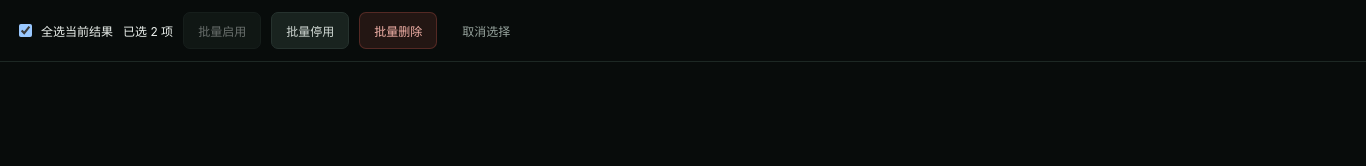
it: 包批量操作 › 停止等待后不提交当前条目或后续条目
Click the button "批量停用" at [310, 30], box [271,12,349,49]
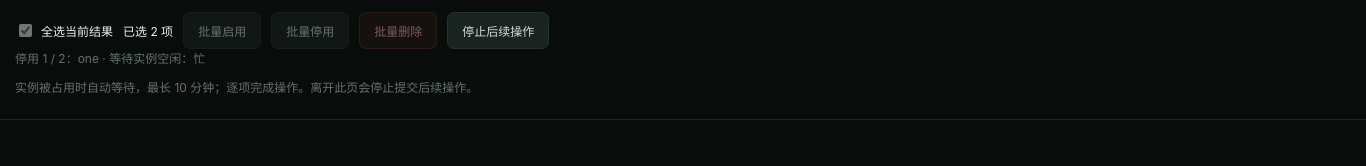
Expected: the text "停用 1 / 2：one · 等待实例空闲：忙" is shown, [15,51,205,66]
Click the button "停止后续操作" at [498, 30], box [447,12,549,49]
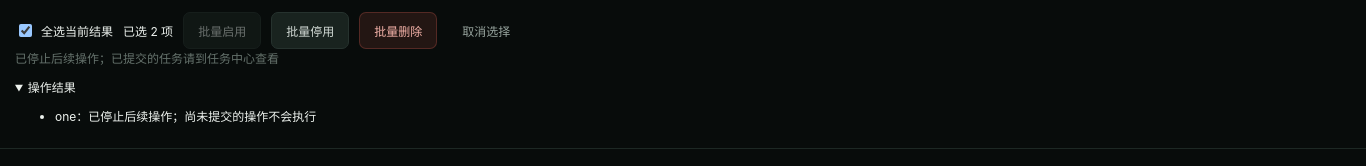
Expected: the text "已停止后续操作；已提交的任务请到任务中心查看" is shown, [15,51,279,66]
